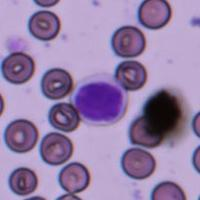L: (70, 74, 128, 125)
